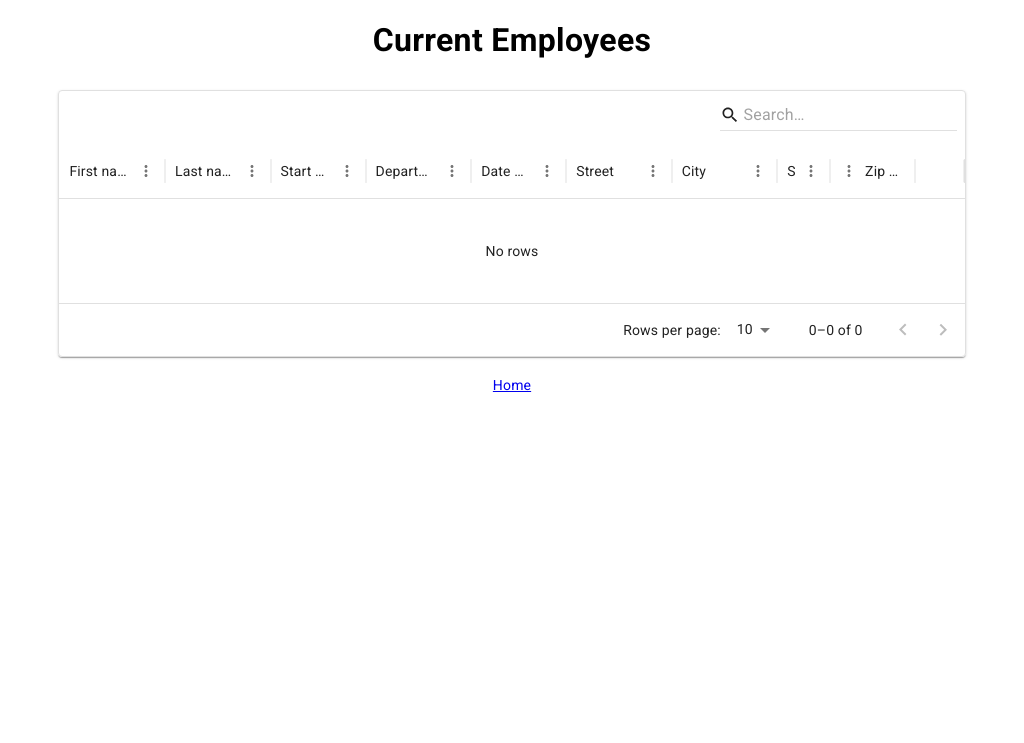
Scenario: Clicking on the link to the Home page
The width and height of the screenshot is (1024, 743).
Click the link with test id "home-link".
click(512, 385)  # box [493,375,531,395]
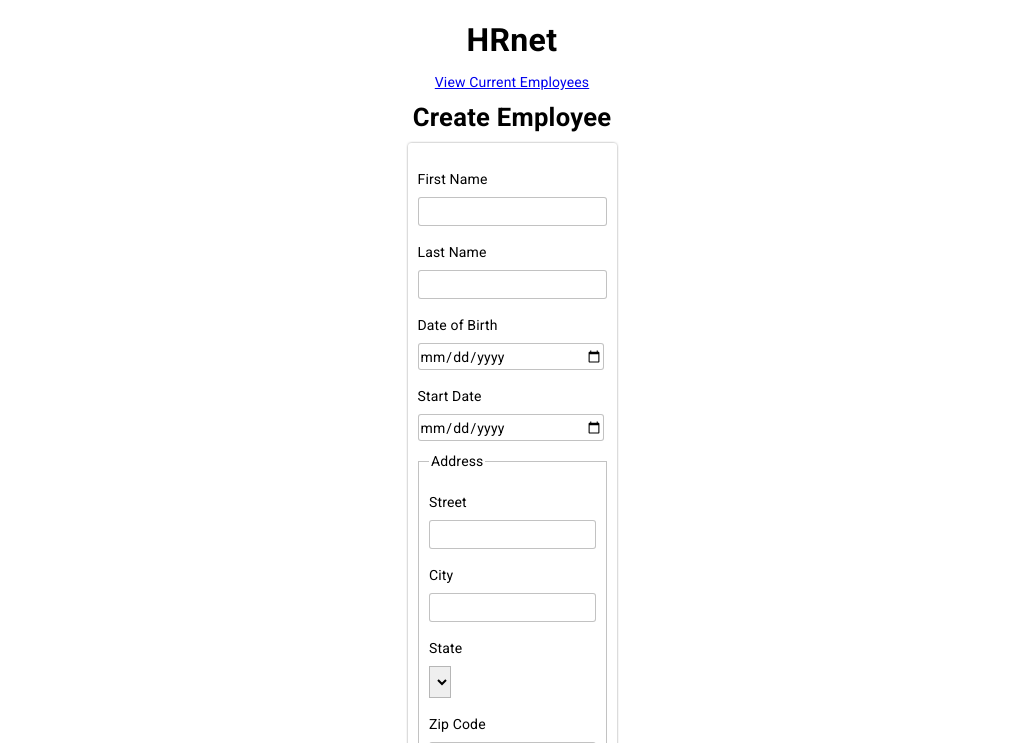
Expected: the heading "Create Employee" is shown, [413,102,611,132]
